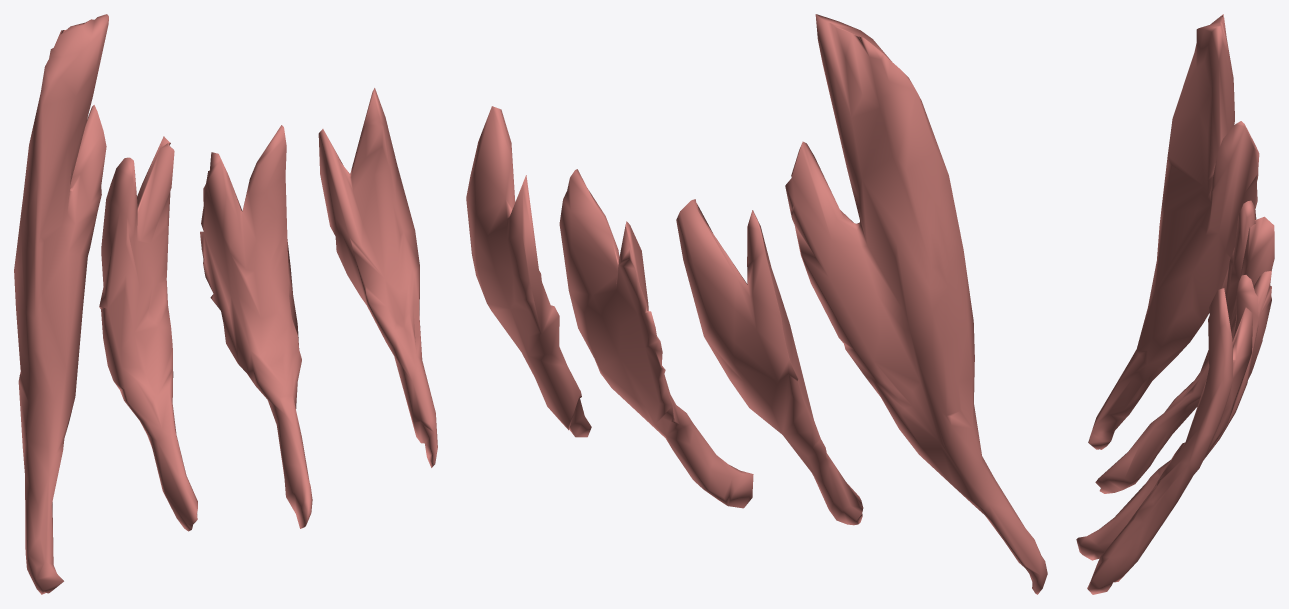
3 views of the same model, side by side, from view 1: azimuth 30°, elevation 25°; view 2: azimuth 150°, elevation 25°; view 3: azimuth 270°, elevation 25° (orthographic). The views are drawn at different scales.
Parts seen in each view (by area): view 1: ZA_abc9c249e1304af3; view 2: ZA_abc9c249e1304af3; view 3: ZA_abc9c249e1304af3.
Boxes of the visible parts, x1,y1,x2,y2 form: ZA_abc9c249e1304af3: (14,14,437,594); ZA_abc9c249e1304af3: (466,14,1047,594); ZA_abc9c249e1304af3: (1076,14,1274,594).
Bounding box in the file's own units: 0.064 × 0.0711 × 0.0265.
